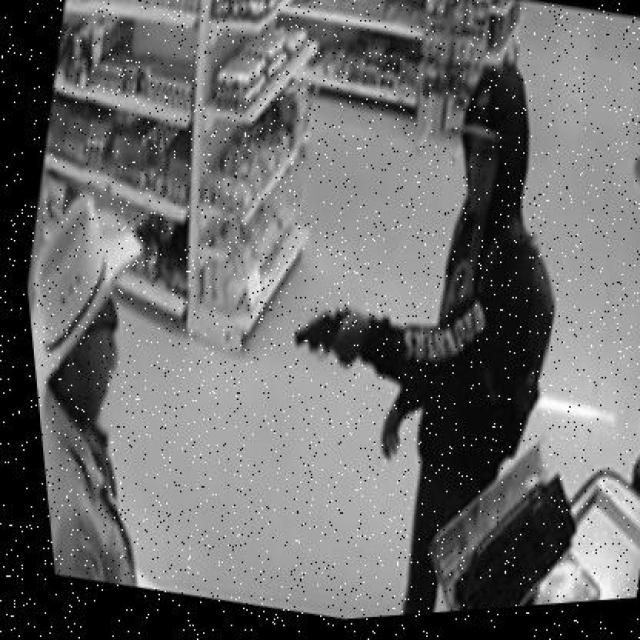weapon: (293, 310, 370, 373)
